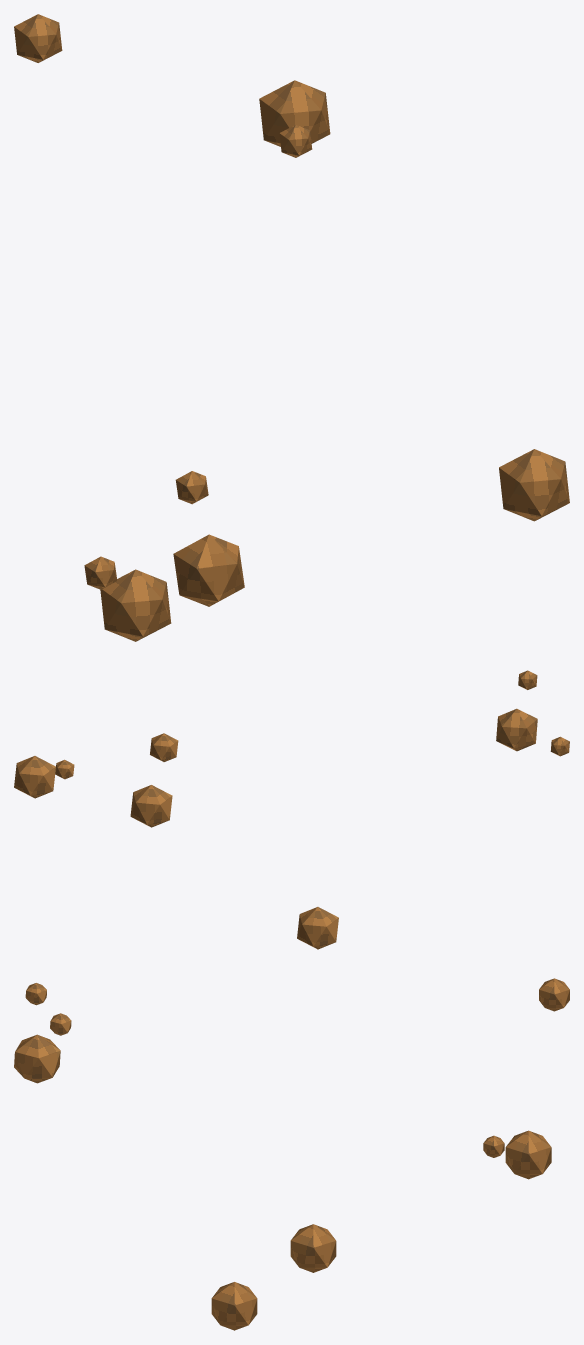
The model's file is rocks.glb.
3 renders of one model, top to bottom at view 1: azimuth 30°, elevation 25°; view 2: azimuth 150°, elevation 25°; view 3: azimuth 270°, elevation 25°, orthographic. The views are drawn at different scales.
Parts seen in each view (by area): view 1: rocks; view 2: rocks; view 3: rocks.
Boxes of the visible parts, x1,y1,x2,y2 form: rocks: (14, 14, 569, 641); rocks: (14, 670, 569, 949); rocks: (14, 978, 569, 1330).
Bounding box in the file's own units: 42.6 × 31.96 × 50.11.
Materials: 1 (1 with a texture image).
